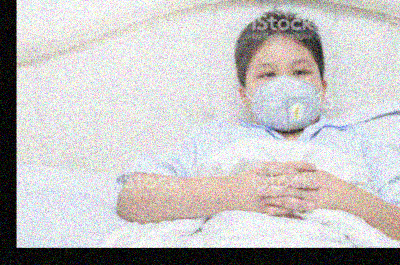with_mask: (246, 52, 322, 133)
